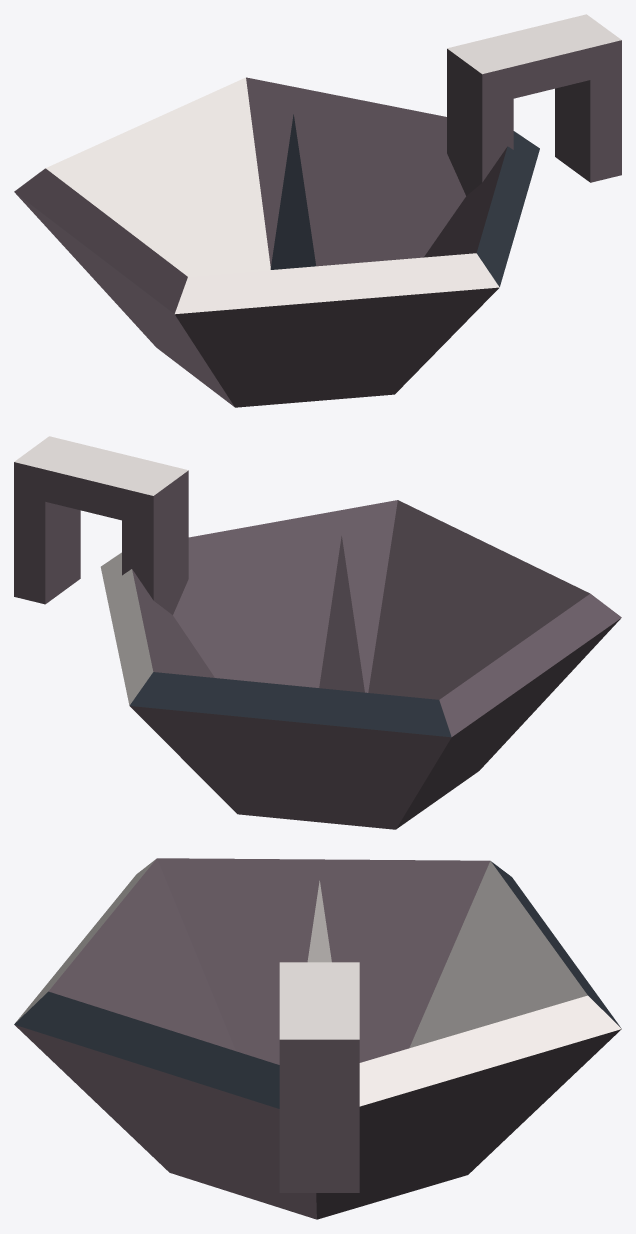
Rendered from TB_D_Prop_CandleHolder.FBX.
The picture shows the model from 3 angles, top to bottom: view 1: azimuth 30°, elevation 25°; view 2: azimuth 150°, elevation 25°; view 3: azimuth 270°, elevation 25°; orthographic projection. The views are drawn at different scales.
Parts seen in each view (by area): view 1: TB_D_Prop_CandleHolder; view 2: TB_D_Prop_CandleHolder; view 3: TB_D_Prop_CandleHolder.
Part boxes in pixels (x1,y1,x2,y2): TB_D_Prop_CandleHolder: (14,14,621,407); TB_D_Prop_CandleHolder: (14,436,621,829); TB_D_Prop_CandleHolder: (14,858,621,1219).
Bounding box in the file's own units: 0.5589 × 0.2633 × 0.5081.
